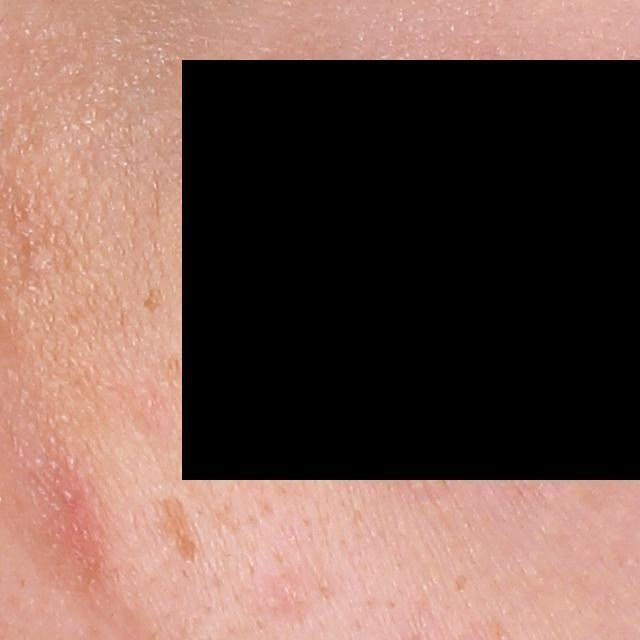melasma: (157, 497, 201, 568), (140, 288, 164, 309)
